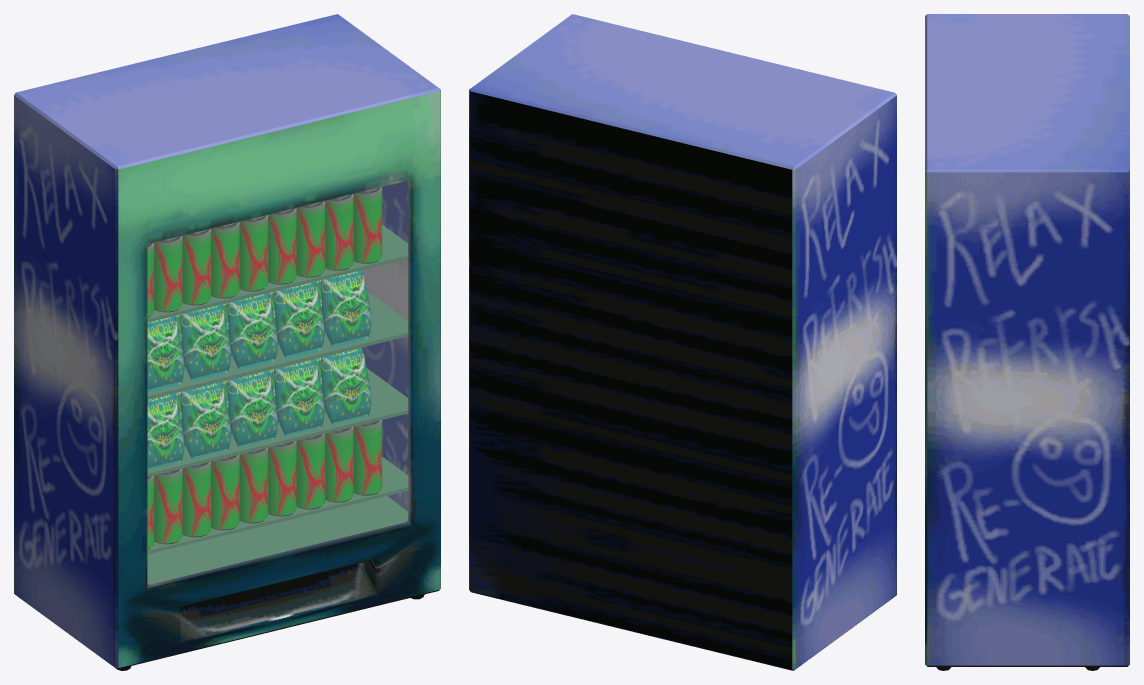
The model's file is VENDING MACHINE.glb.
The picture shows the model from 3 angles, left to right: view 1: azimuth 30°, elevation 25°; view 2: azimuth 150°, elevation 25°; view 3: azimuth 270°, elevation 25°; orthographic projection.
Parts seen in each view (by area): view 1: CASE, GLASS, SODA.001, SODA, SUPER_CRUNCHERS_PROP.001, SUPER_CRUNCHERS_PROP, PRATELEIRAS, BASE; view 2: CASE; view 3: CASE.
Part boxes in pixels (<box>): CASE: <box>14,14,440,669</box>; GLASS: <box>147,179,410,587</box>; SODA.001: <box>147,187,382,317</box>; SODA: <box>147,420,382,549</box>; SUPER_CRUNCHERS_PROP.001: <box>147,270,371,392</box>; SUPER_CRUNCHERS_PROP: <box>147,347,371,469</box>; PRATELEIRAS: <box>147,225,408,554</box>; BASE: <box>147,496,408,584</box>; CASE: <box>469,14,896,670</box>; CASE: <box>925,14,1129,666</box>.
Size of the model in its own units: 2 by 3 by 1.1.
Materials: 4 (3 with a texture image).
